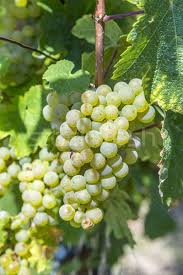grapes: (54, 83, 154, 229), (11, 164, 59, 267)
